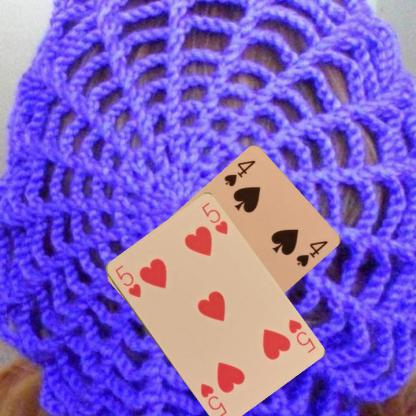4s: (221, 158, 257, 188)
5h: (112, 262, 142, 300), (286, 316, 316, 354)
